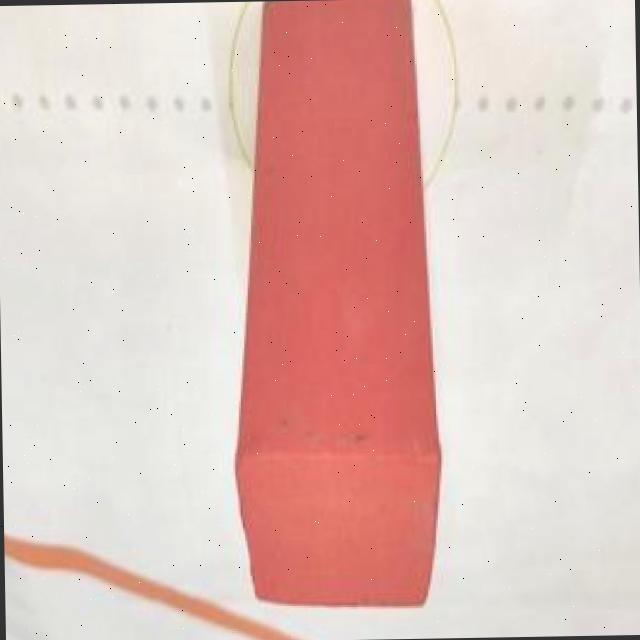redbox: (257, 0, 432, 617)
